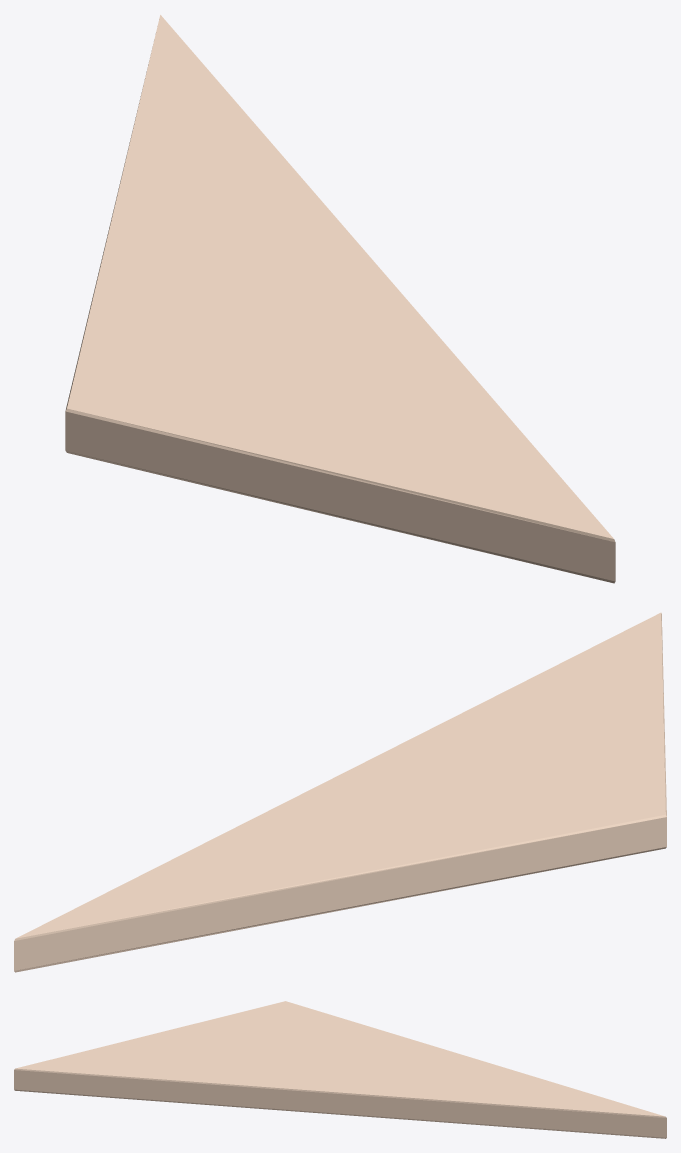
Rendered from PLW.glb.
3 views of the same model, one above another, from view 1: azimuth 30°, elevation 25°; view 2: azimuth 150°, elevation 25°; view 3: azimuth 270°, elevation 25° (orthographic). The views are drawn at different scales.
Size of the model in its own units: 0.7628 by 0.068 by 1.81.
